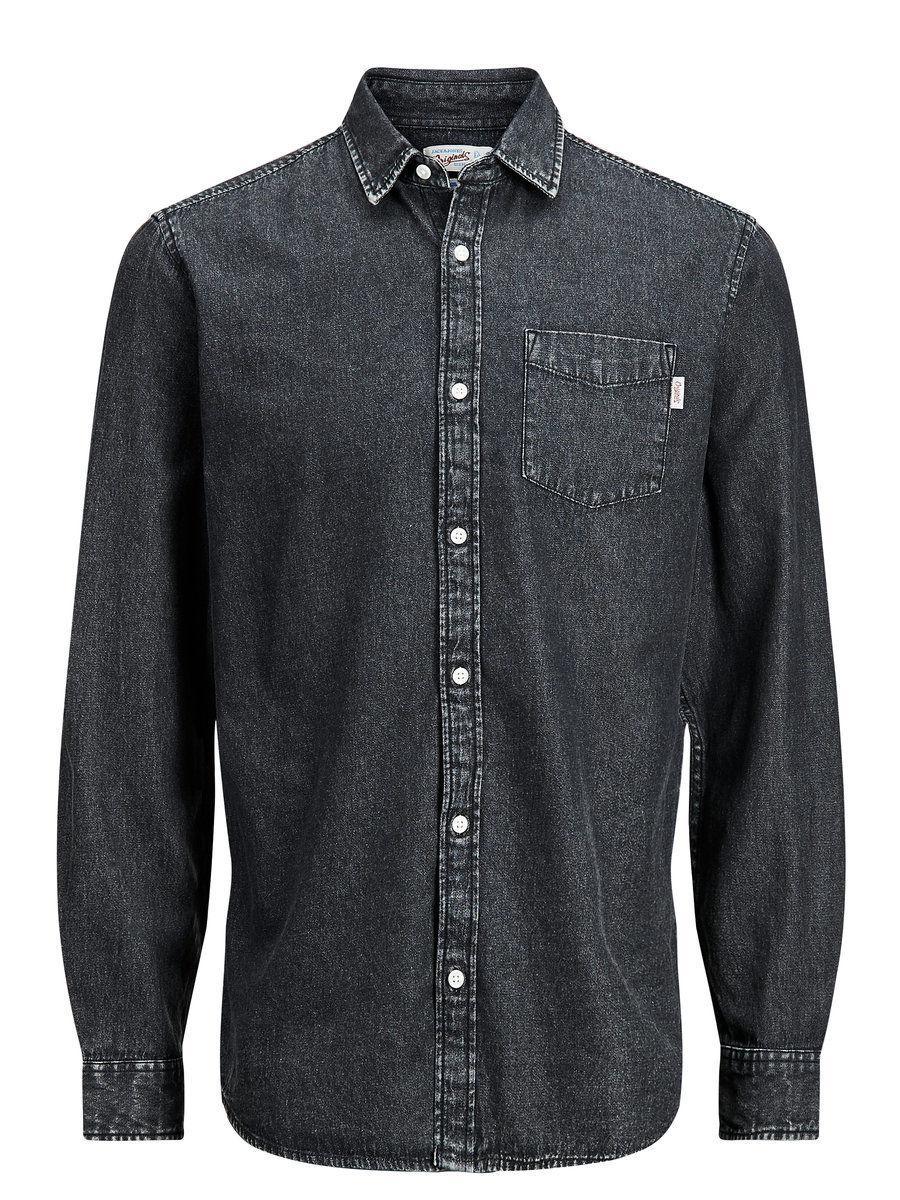teeshirt: (45, 62, 865, 1160)
